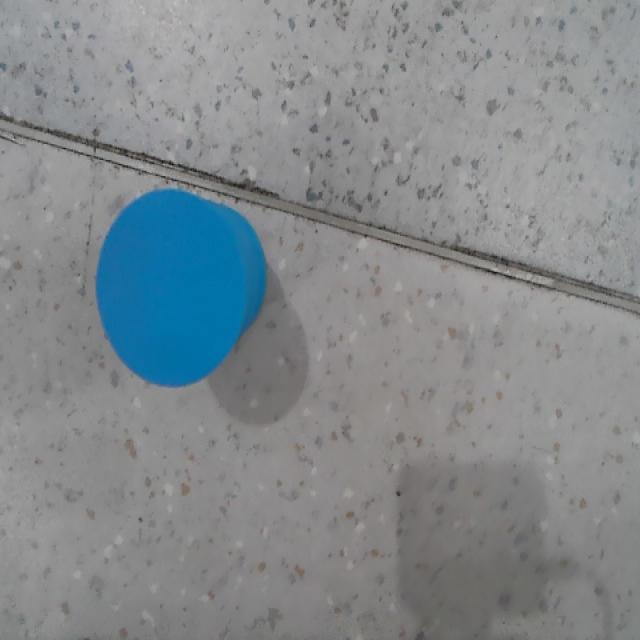b: (95, 189, 247, 390)
